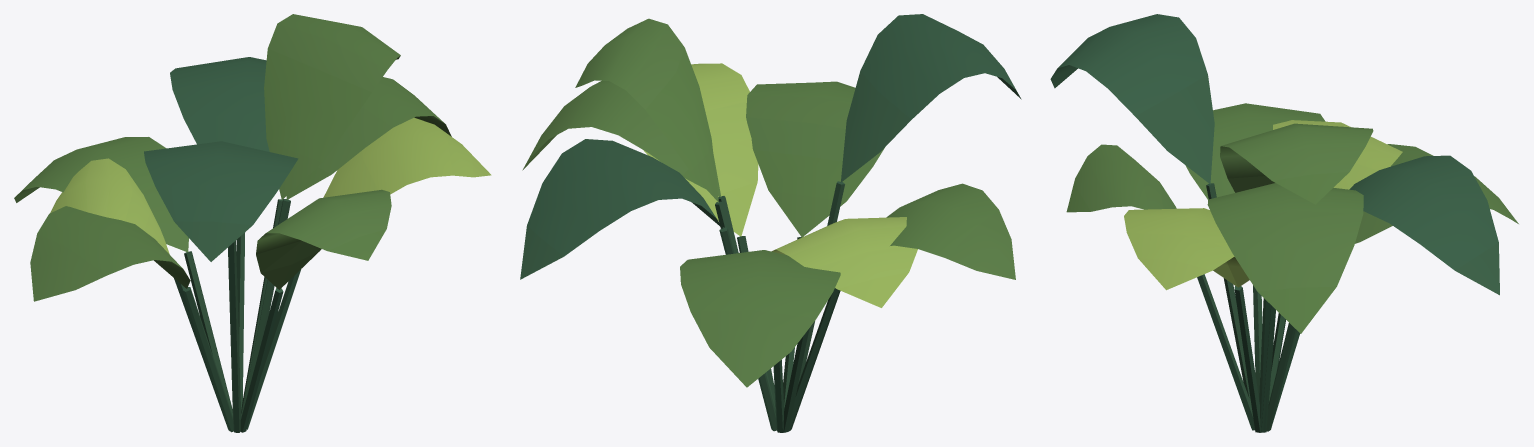
The model's file is foliage_coastal_paddle_a.glb.
3 views of the same model, side by side, from view 1: azimuth 30°, elevation 25°; view 2: azimuth 150°, elevation 25°; view 3: azimuth 270°, elevation 25° (orthographic). The views are drawn at different scales.
Parts seen in each view (by area): view 1: foliage_coastal_paddle_a_LOD0; view 2: foliage_coastal_paddle_a_LOD0; view 3: foliage_coastal_paddle_a_LOD0.
Boxes of the visible parts, x1,y1,x2,y2 form: foliage_coastal_paddle_a_LOD0: (14,14,491,432); foliage_coastal_paddle_a_LOD0: (520,14,1021,432); foliage_coastal_paddle_a_LOD0: (1050,14,1518,432).
Size of what is drawn, in the model's own units: 2.09 by 1.61 by 1.88.
